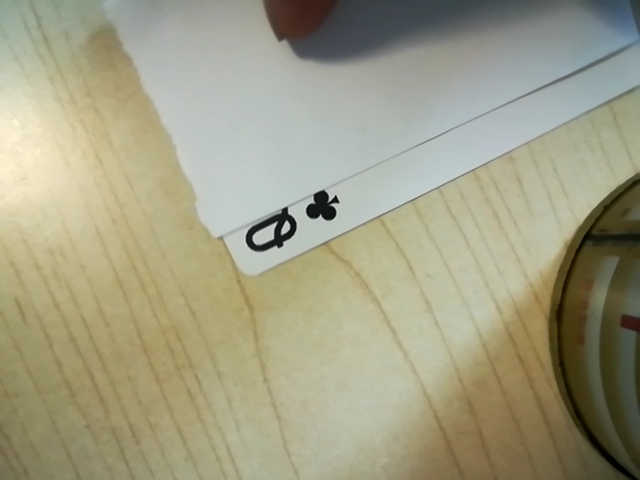mh q: (232, 185, 344, 263)
